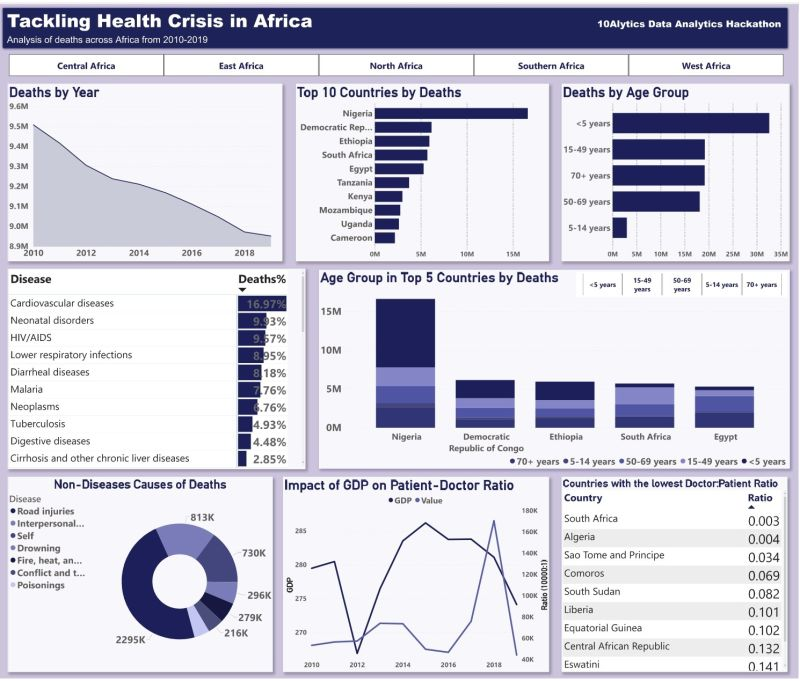

Layout of this report page (visuals, bound fields, positions):
{"tool":"powerbi","page":{"name":"Dashboard","canvas":[3200,2700],"ordinal":0},"visuals":[{"type":"shape","box":[8.4,8.4,3155.6,177.2],"z":0},{"type":"barChart","title":"Top 10 Countries by Deaths","fields":{"Y":["Sum(deaths_by_age.Deaths)"],"Category":["deaths_by_age.Country"]},"box":[1189.7,320.6,1012.5,708.8],"z":1000},{"type":"barChart","fields":{"Category":["deaths_by_age.Age Group"],"Y":["Sum(deaths_by_age.Deaths)"]},"box":[2252.8,320.6,911.2,708.8],"z":2000},{"type":"areaChart","fields":{"Y":["Sum(deaths_by_age.Deaths)"],"Category":["deaths_by_age.Year"]},"box":[38,320.6,1096.9,708.8],"z":3000},{"type":"pivotTable","title":"Major  Disease","fields":{"Rows":["deaths_by_cause.Disease"],"Values":["Divide(Sum(deaths_by_cause.Deaths), ScopedEval(Sum(deaths_by_cause.Deaths), []))"]},"box":[38,1058.9,1244.5,801.6],"z":4000},{"type":"textbox","box":[29.5,8.4,3134.5,185.6],"z":5000},{"type":"slicer","fields":{"Values":["Region.Region"]},"box":[16.9,194.1,3147.2,101.2],"z":6000},{"type":"donutChart","title":"Non-Diseases Causes of Deaths","fields":{"Y":["Sum(deaths_by_cause.Deaths)"],"Category":["deaths_by_cause.Disease"]},"box":[1337.3,1058.9,1826.7,801.6],"z":7000},{"type":"pivotTable","title":"Countries with the lowest Doctor-Patient Ratio","fields":{"Rows":["doctors_per_10000.Country"],"Values":["Sum(doctors_per_10000.Value)"]},"box":[2168.4,1894.2,995.6,780.5],"z":8000},{"type":"barChart","title":"Countries with the Highest Death Rates","fields":{"Category":["Merge1.Country"],"Y":["Sum(Merge1.death_rate_100,000)"]},"box":[1126.4,1894.2,999.8,780.5],"z":9000},{"type":"lineChart","title":"GDP per Year","fields":{"Category":["health_gdp.Year"],"Y":["Merge1.Measure 2"]},"box":[38,1894.2,1054.7,780.5],"z":10000}]}

Visuals, with their boxes in screenshot pixels (x1, y1, x2, y2), scaled from the page's 3200x2700 canvas onto the 800x681 screenshot:
shape: bbox=(2, 2, 791, 47)
"Top 10 Countries by Deaths" barChart: bbox=(297, 81, 551, 260)
barChart - deaths_by_age.Age Group x Sum(deaths_by_age.Deaths): bbox=(563, 81, 791, 260)
areaChart - Sum(deaths_by_age.Deaths) x deaths_by_age.Year: bbox=(10, 81, 284, 260)
"Major  Disease" pivotTable: bbox=(10, 267, 321, 469)
textbox: bbox=(7, 2, 791, 49)
slicer - Region.Region: bbox=(4, 49, 791, 74)
"Non-Diseases Causes of Deaths" donutChart: bbox=(334, 267, 791, 469)
"Countries with the lowest Doctor-Patient Ratio" pivotTable: bbox=(542, 478, 791, 675)
"Countries with the Highest Death Rates" barChart: bbox=(282, 478, 532, 675)
"GDP per Year" lineChart: bbox=(10, 478, 273, 675)
